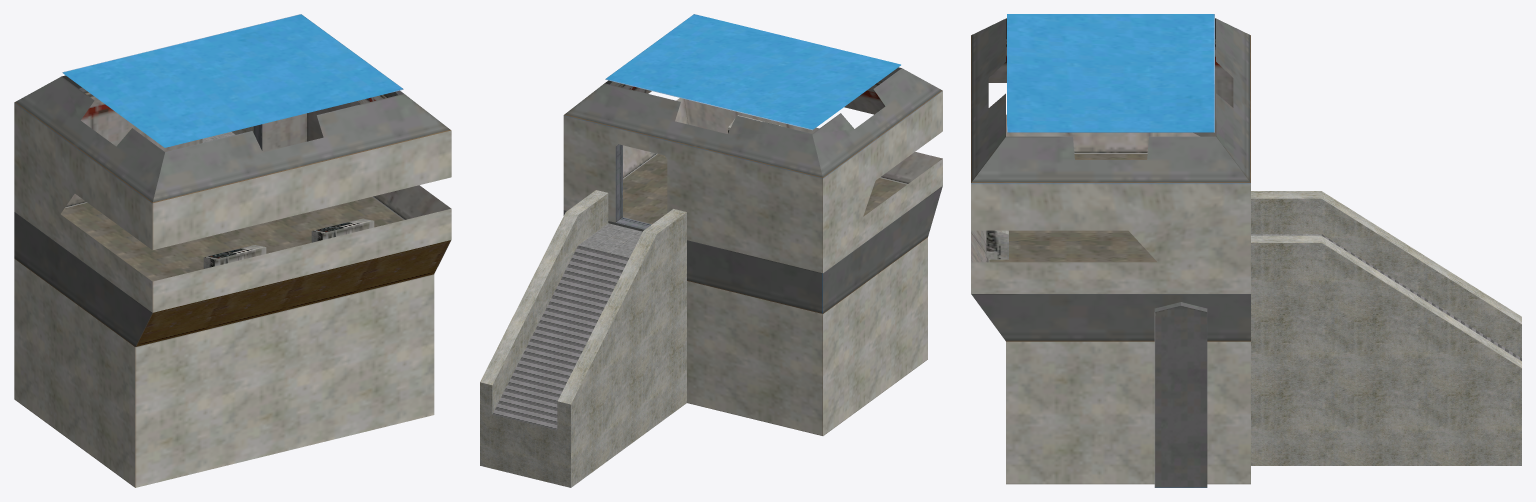
The model's file is mun_all_military_base_gate_house_rebl_s01_l2.fbx.
The picture shows the model from 3 angles, left to right: view 1: azimuth 30°, elevation 25°; view 2: azimuth 150°, elevation 25°; view 3: azimuth 270°, elevation 25°; orthographic projection. The views are drawn at different scales.
Parts seen in each view (by area): view 1: mesh_node; view 2: mesh_node; view 3: mesh_node.
Boxes of the visible parts, x1,y1,x2,y2 form: mesh_node: [14, 14, 451, 487]; mesh_node: [480, 14, 942, 487]; mesh_node: [971, 14, 1521, 487].
Bounding box in the file's own units: 10.25 × 10.64 × 15.74.
